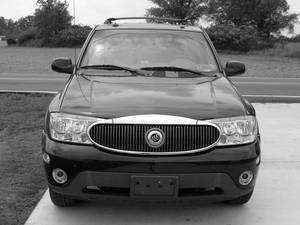car: (40, 17, 267, 214)
